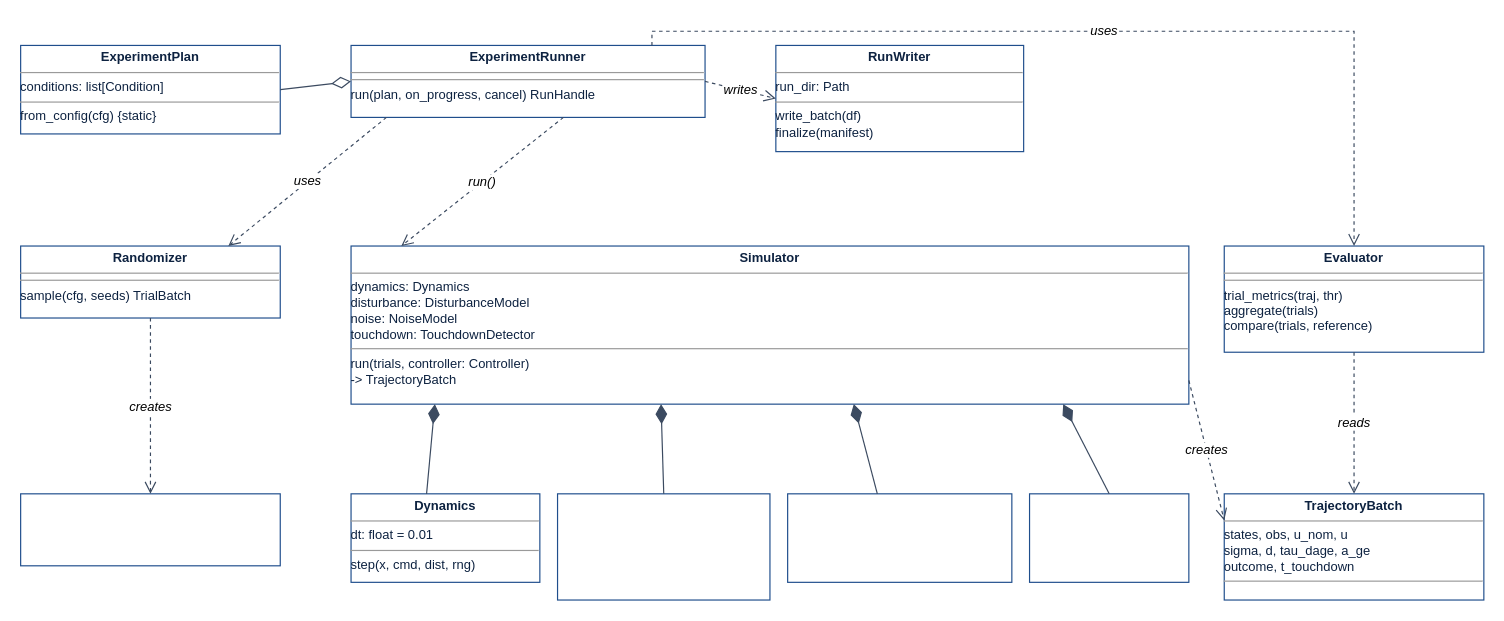
The diagram is 1504 pixels wide and 621 high, and some of its shapes have lost their labels. The shapes that lost their labels are listed below. From the top down, each one's centre as x and y in pixels, then its label:
the point at 149,529: TrialBatch seeds, v_p, scalings, x0: ndarray
the point at 663,546: DisturbanceModel profile: DisturbanceProfile tau_dage(z, v_y, v_p, phi) a_ge(z)
the point at 899,537: NoiseModel sigmas: NoiseConfig measure(state, rng) Observation
the point at 1108,537: TouchdownDetector phi_div: float check(state) flags
